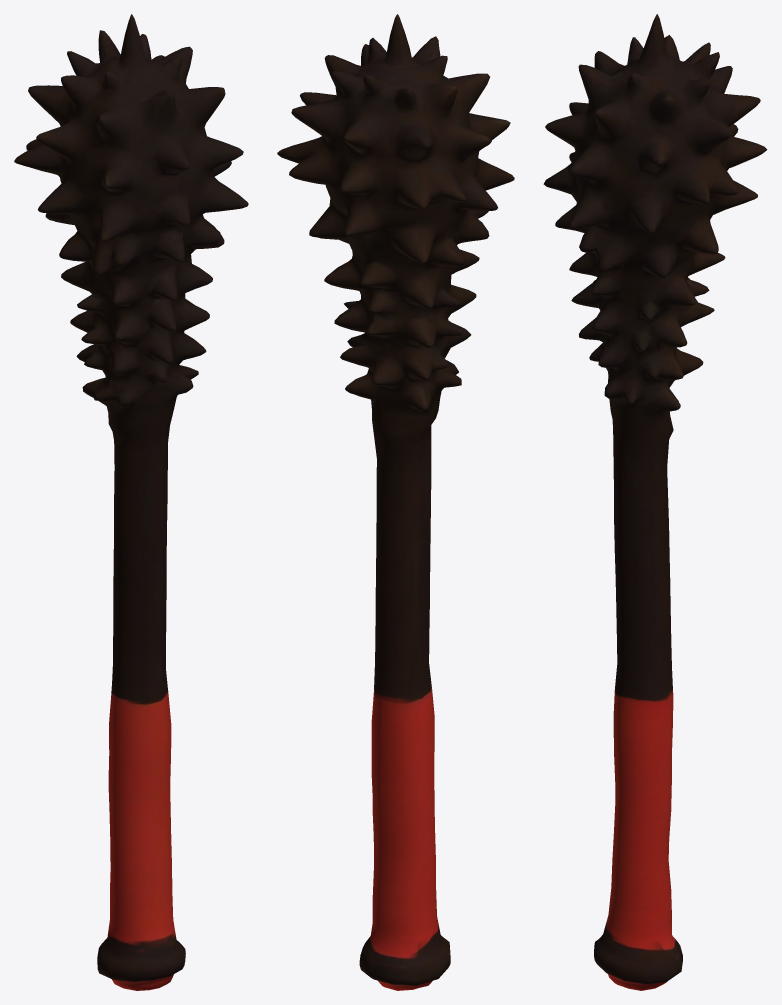
Rendered from oni_club.fbx.
The picture shows the model from 3 angles, left to right: view 1: azimuth 30°, elevation 25°; view 2: azimuth 150°, elevation 25°; view 3: azimuth 270°, elevation 25°; orthographic projection.
Parts seen in each view (by area): view 1: tripo_node_71a9c8bd-8455-42fa-9a20-51c30f6d45f3; view 2: tripo_node_71a9c8bd-8455-42fa-9a20-51c30f6d45f3; view 3: tripo_node_71a9c8bd-8455-42fa-9a20-51c30f6d45f3.
Part boxes in pixels (left/top/right/bottom): tripo_node_71a9c8bd-8455-42fa-9a20-51c30f6d45f3: left=14, top=14, right=248, bottom=990; tripo_node_71a9c8bd-8455-42fa-9a20-51c30f6d45f3: left=277, top=14, right=514, bottom=990; tripo_node_71a9c8bd-8455-42fa-9a20-51c30f6d45f3: left=543, top=14, right=767, bottom=990.
Size of the model in its own units: 20.18 by 95.76 by 20.13.
Materials: 1 (1 with a texture image).
